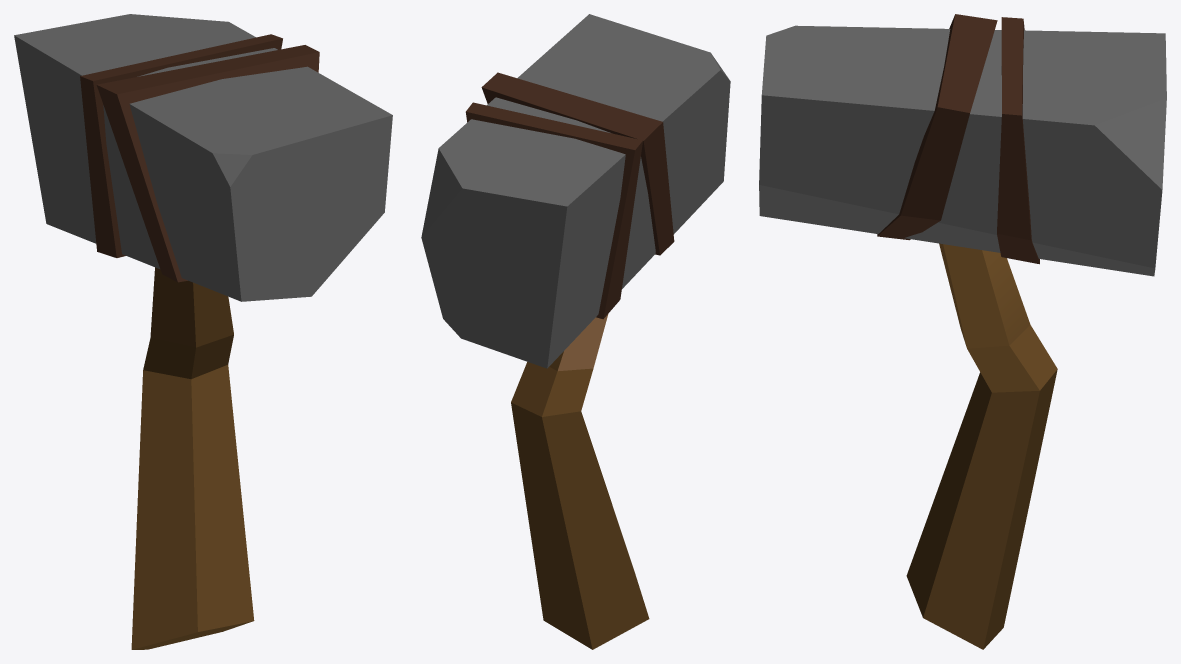
Rendered from actual hammer.fbx.
3 views of the same model, side by side, from view 1: azimuth 30°, elevation 25°; view 2: azimuth 150°, elevation 25°; view 3: azimuth 270°, elevation 25° (orthographic). The views are drawn at different scales.
Parts seen in each view (by area): view 1: Stone_Hammer; view 2: Stone_Hammer; view 3: Stone_Hammer.
Boxes of the visible parts, <box> form: Stone_Hammer: <box>14,14,392,649</box>; Stone_Hammer: <box>421,14,730,649</box>; Stone_Hammer: <box>759,14,1166,649</box>.
Bounding box in the file's own units: 55.19 × 157 × 98.07.
1 material, 1 textured.
